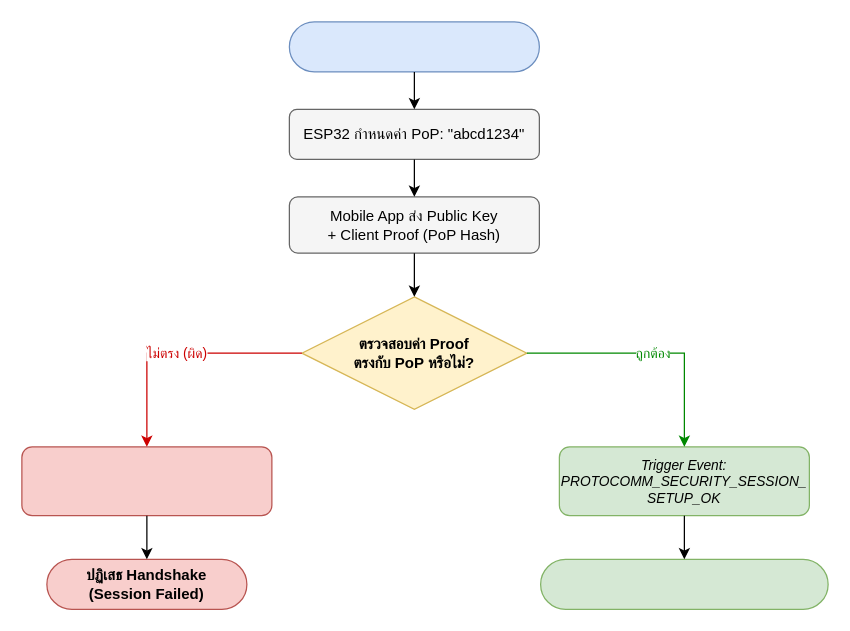
The diagram is 850 pixels wide and 631 high, and some of its shapes have lost their labels. The centre of each missing label's shape, as x and y in pixels:
"Trigger Event: PROTOCOMM_SECURITY_SESSION_ CREDENTIALS_MISMATCH" goes at (146,481).
"สร้าง Shared AES Session Key สำเร็จ (Secured Session Ready)" goes at (683,583).
"เริ่มต้น Security 1 Handshake" goes at (413,46).
